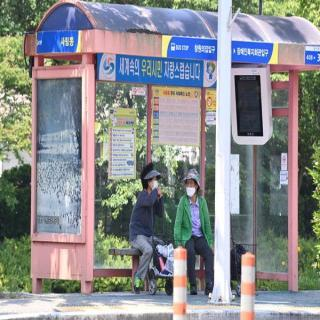person - v3 P: (130, 154, 174, 296), (181, 157, 217, 294)
